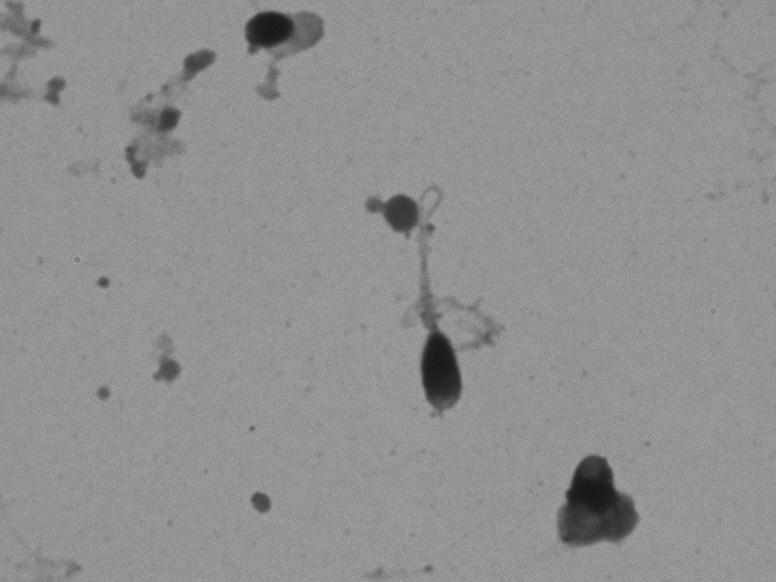Abnormal: (405, 158, 531, 442), (218, 1, 371, 121)
